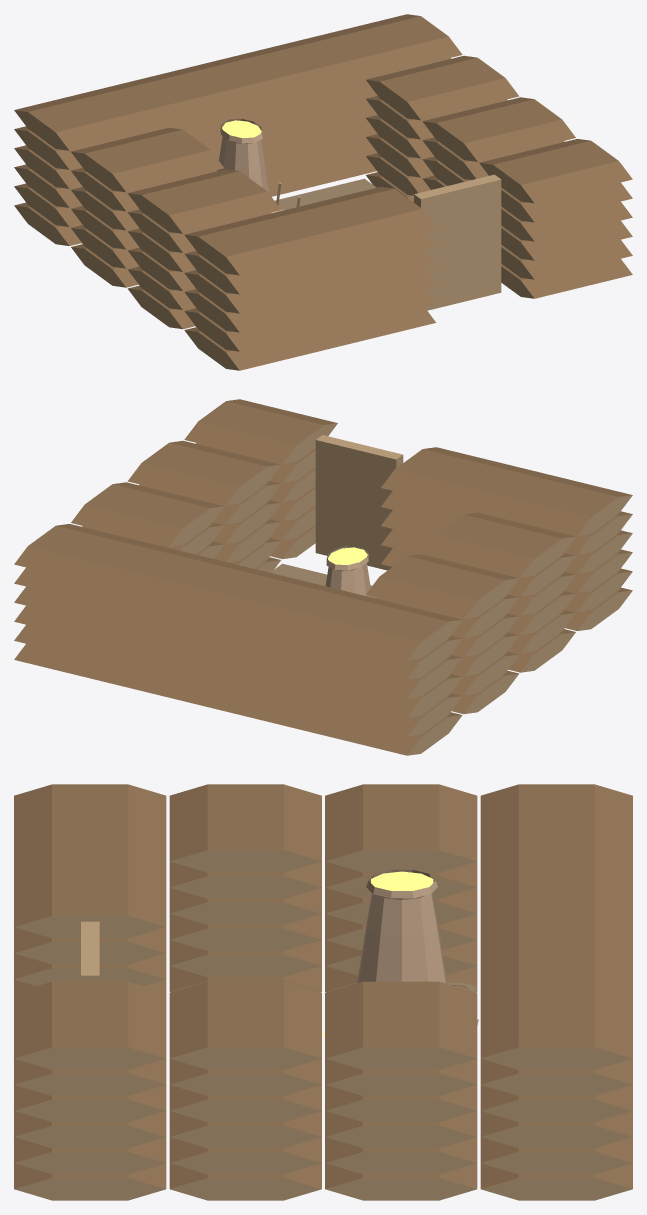
Rendered from building_smelter_half.glb.
3 views of the same model, one above another, from view 1: azimuth 30°, elevation 25°; view 2: azimuth 150°, elevation 25°; view 3: azimuth 270°, elevation 25° (orthographic). The views are drawn at different scales.
Parts seen in each view (by area): view 1: building_smelter_half; view 2: building_smelter_half; view 3: building_smelter_half.
Part boxes in pixels (bbox=[...]): building_smelter_half: bbox=[14, 14, 632, 370]; building_smelter_half: bbox=[14, 399, 632, 755]; building_smelter_half: bbox=[14, 784, 632, 1200].
Bounding box in the file's own units: 4 × 1.15 × 3.98.
